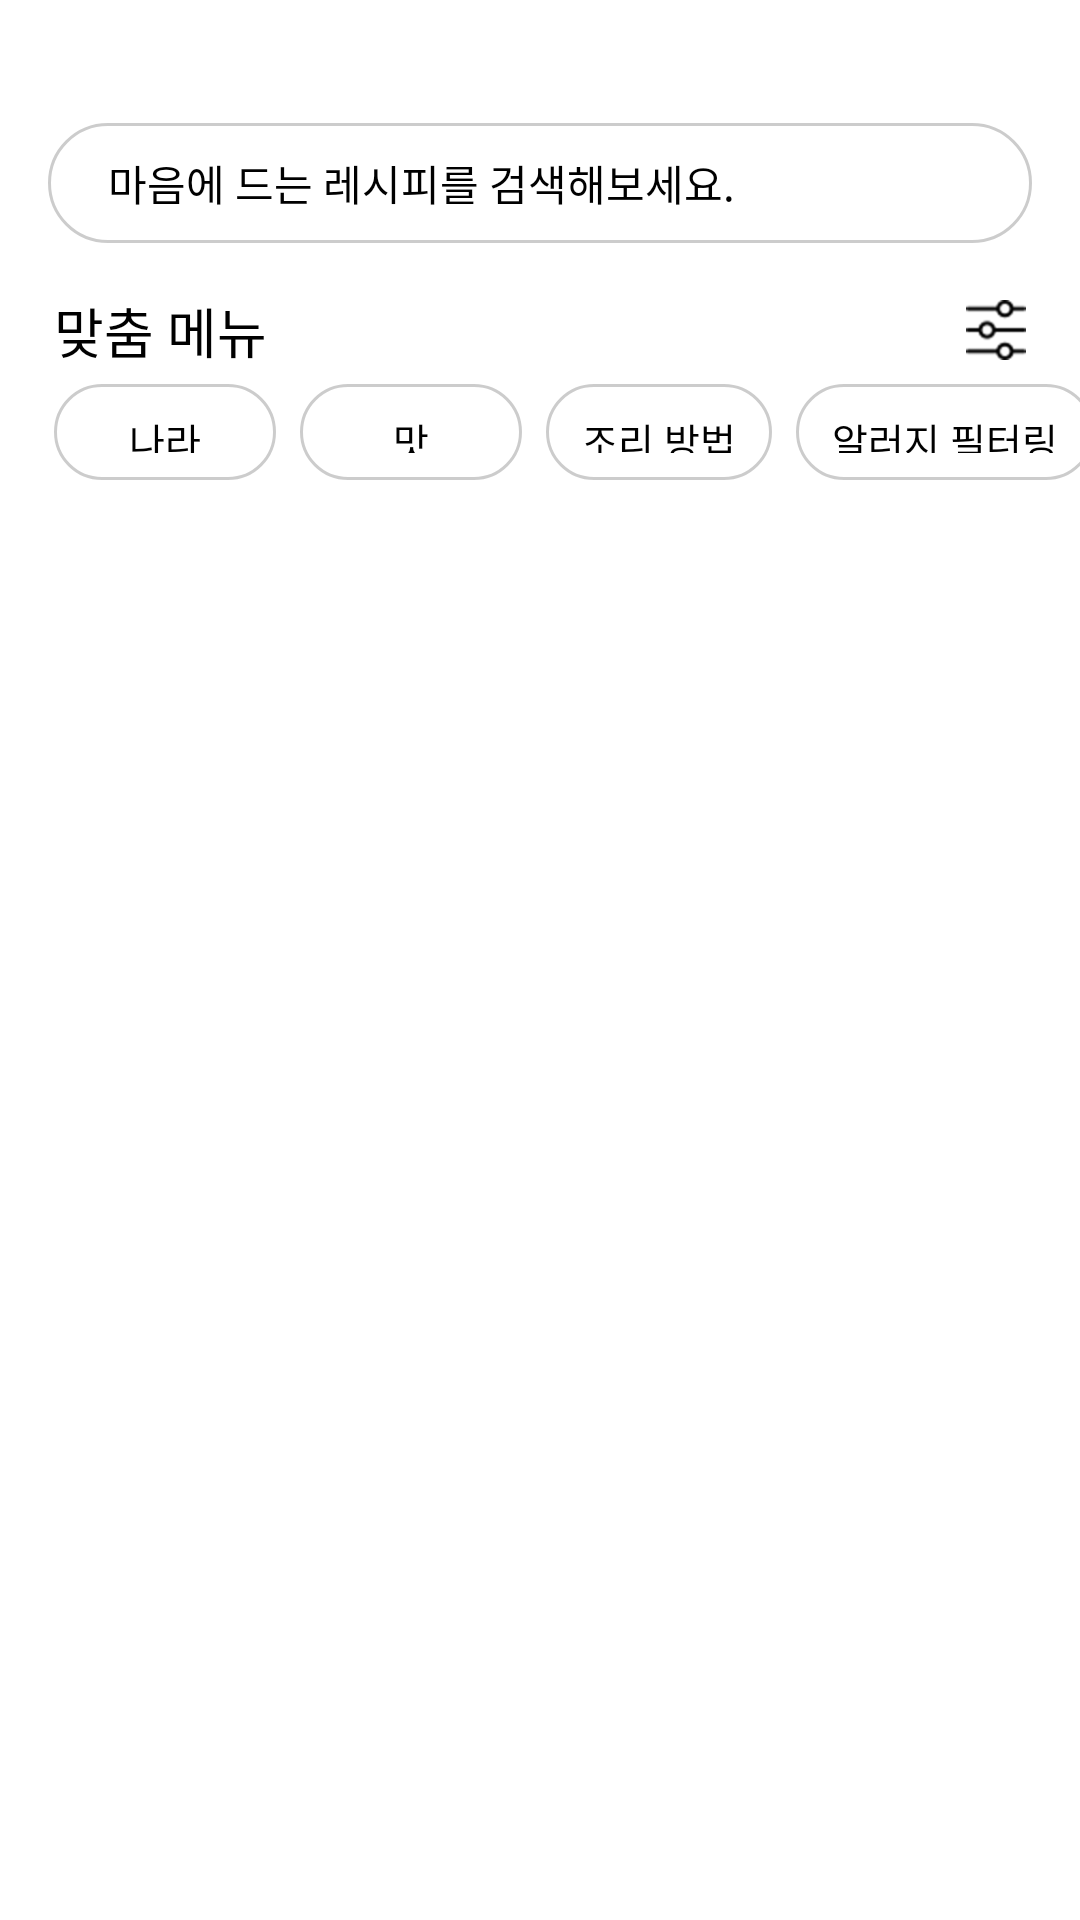

Locate icon controls on the screen. Image size 1080×1920, boxes as (x1, y1, x2, y2).
filter: (966, 300, 1026, 360)
